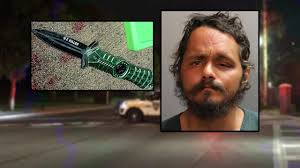knife: (26, 23, 153, 89)
